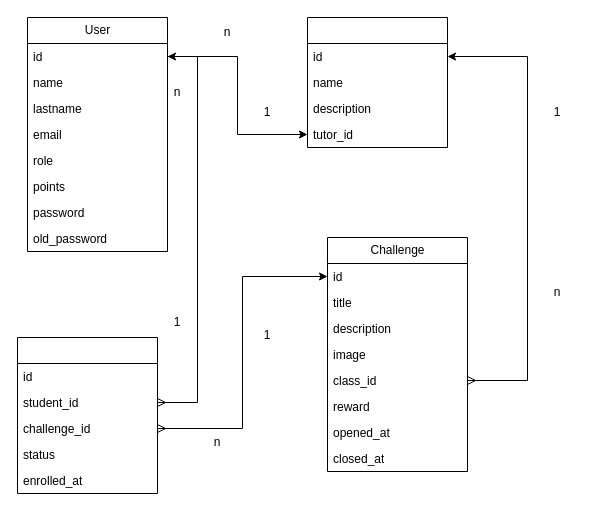
The diagram is 605 pixels wide and 514 high, and some of its shapes have lost their labels. The box of each missing label's shape, as (x1, y1, x2, y2) in pixels:
Class: (306, 16, 448, 148)
Enrollment: (16, 336, 158, 494)
